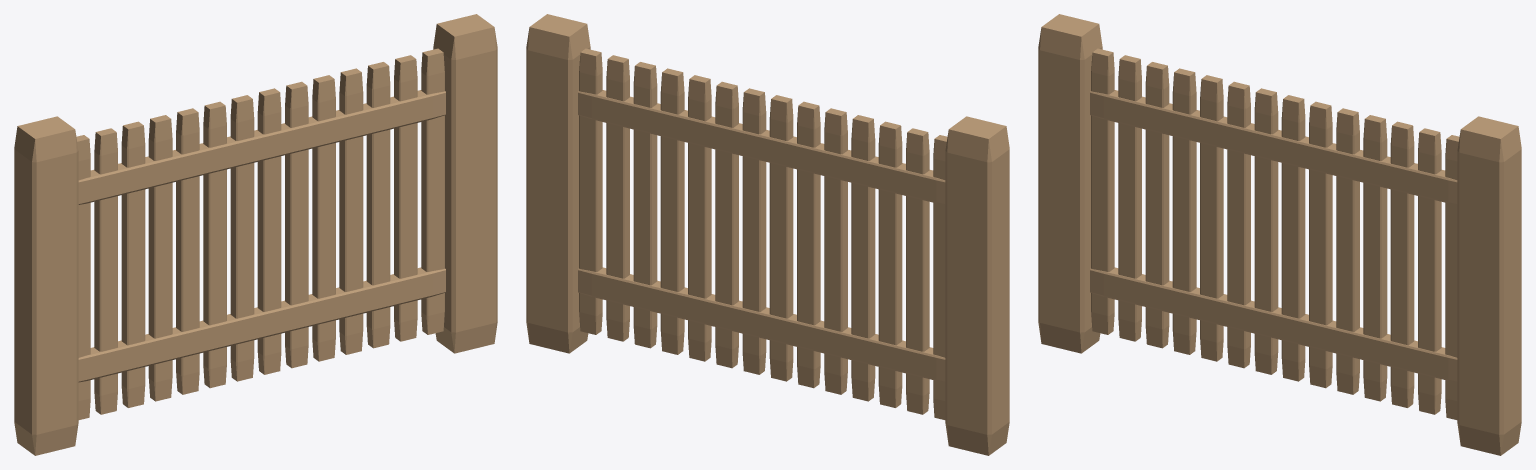
The model's file is b19_basketweave_timber_fence.glb.
3 views of the same model, side by side, from view 1: azimuth 30°, elevation 25°; view 2: azimuth 150°, elevation 25°; view 3: azimuth 330°, elevation 25° (orthographic).
Visible parts, largest first — view 1: b19_basketweave_timber_fence; view 2: b19_basketweave_timber_fence; view 3: b19_basketweave_timber_fence.
Boxes of the visible parts, x1,y1,x2,y2 form: b19_basketweave_timber_fence: [14, 14, 497, 455]; b19_basketweave_timber_fence: [526, 14, 1009, 455]; b19_basketweave_timber_fence: [1038, 14, 1521, 455].
Size of the model in its own units: 2.6 by 1.69 by 0.2.
